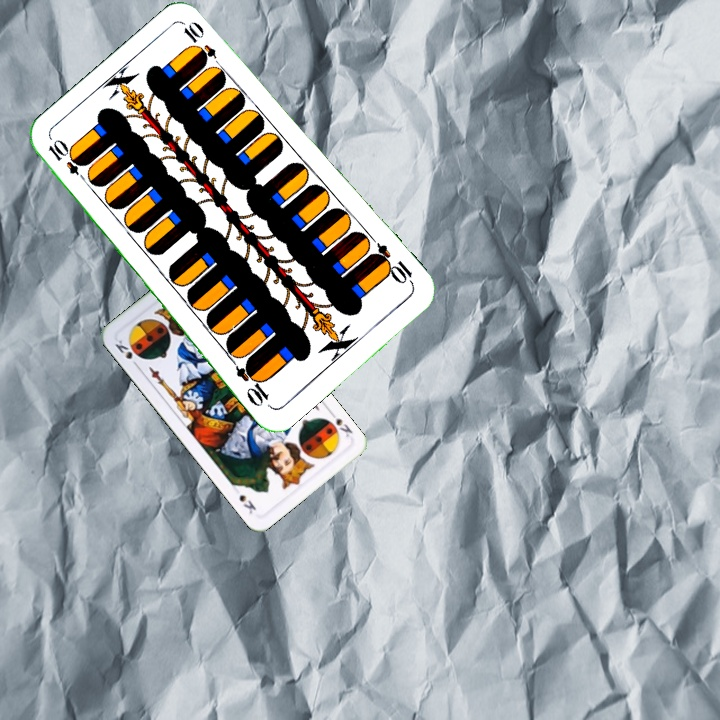E10: (367, 240, 417, 289), (44, 136, 92, 186)
SK: (111, 336, 141, 370), (325, 407, 355, 440)
